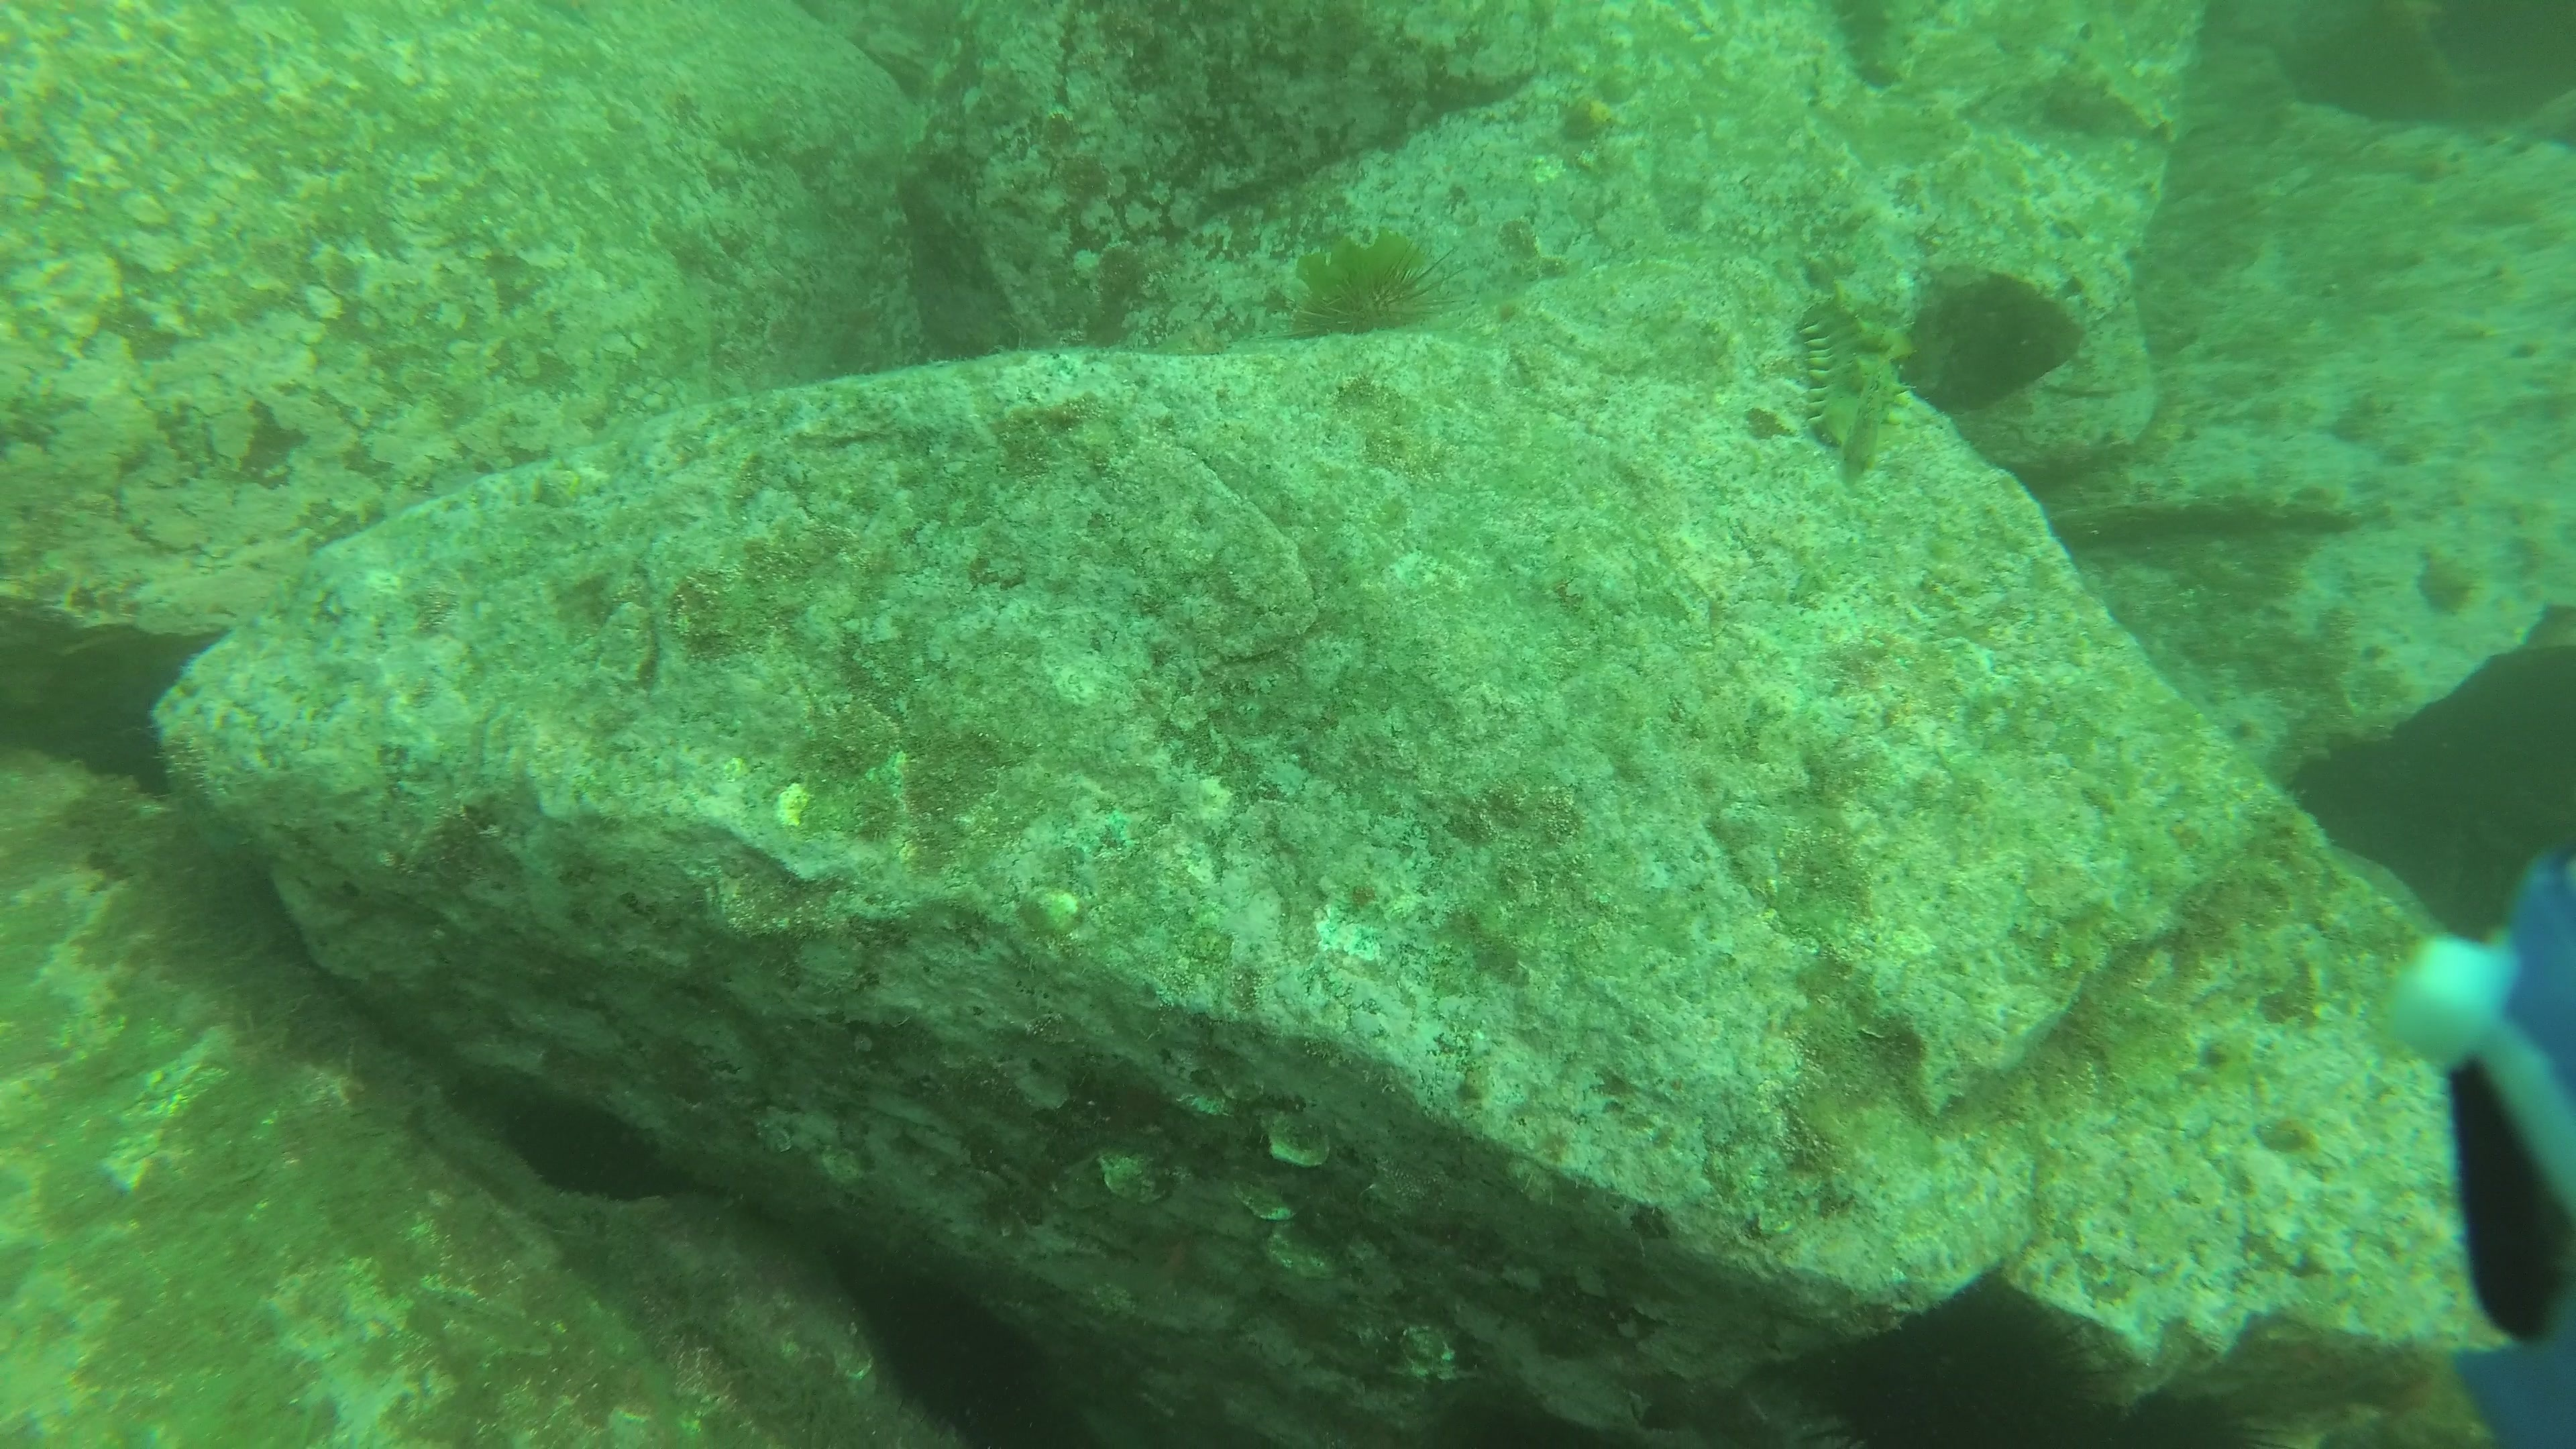echinus: (1824, 1269, 2121, 1449), (1277, 230, 1468, 347), (2109, 1368, 2268, 1449)
holothurian: (1790, 280, 1923, 485), (1828, 4, 1936, 90)
